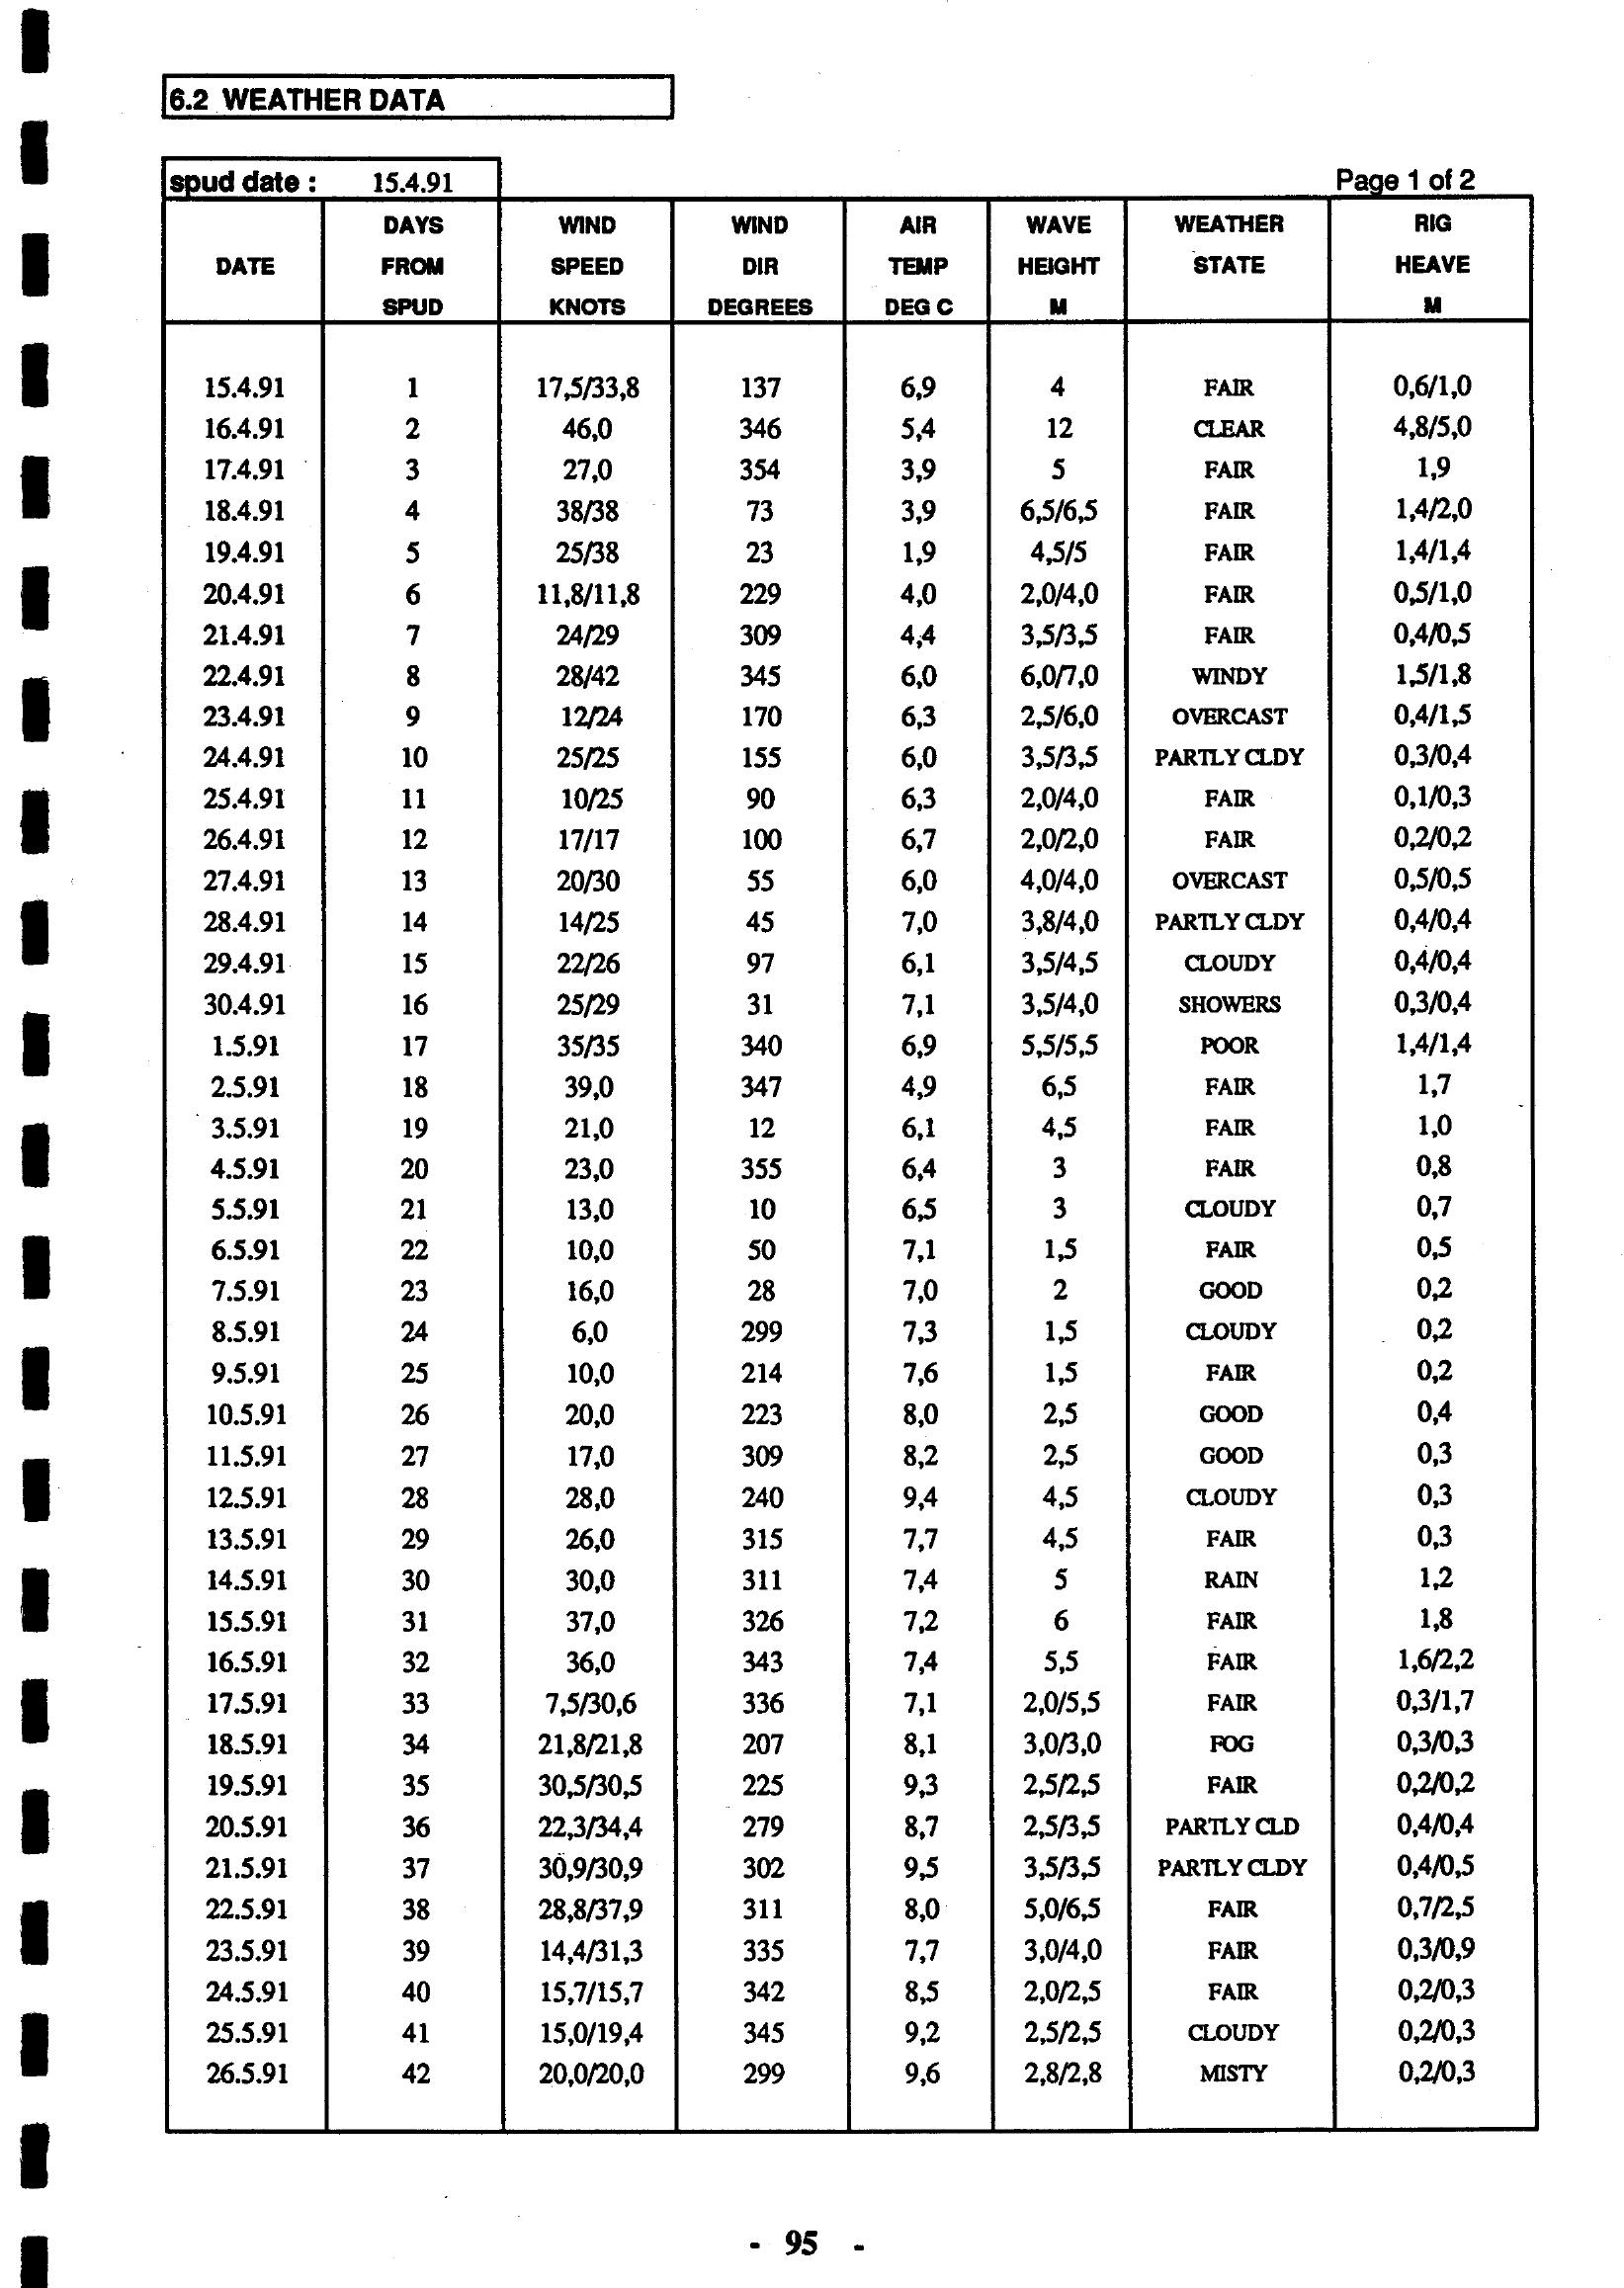table: (132, 44, 1571, 2170)
